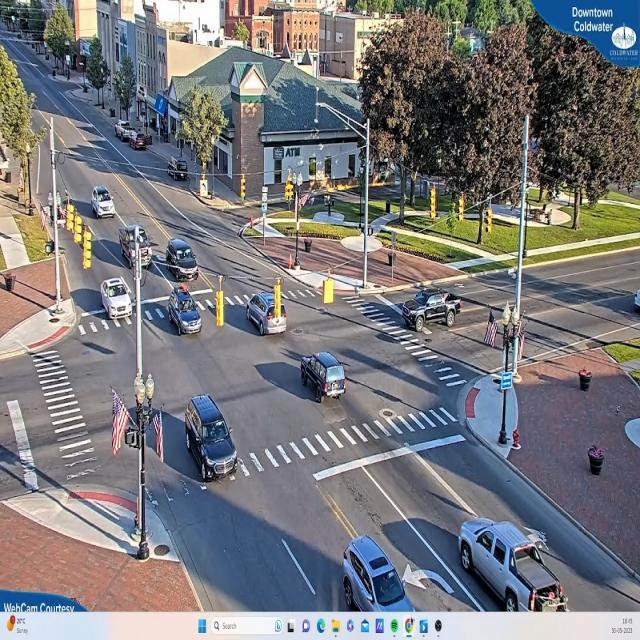car: (458, 517, 569, 611), (341, 536, 413, 612), (186, 394, 239, 480), (300, 336, 352, 402), (400, 274, 463, 322), (166, 289, 208, 330), (101, 276, 134, 322), (91, 186, 117, 218)
